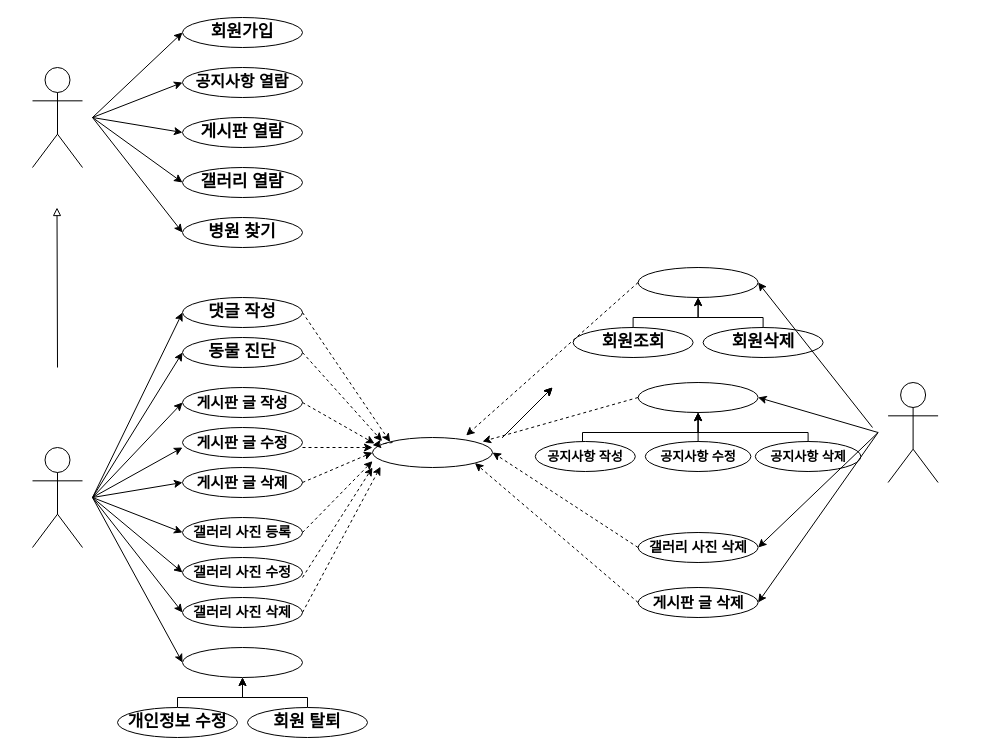
Image size: 1000x755. Some labels were removed from this diagram. The box of each missing label's shape, as (x1, y1, x2, y2) in pixels:
Administrator: (887, 382, 938, 482)
Member: (32, 446, 82, 548)
User: (32, 66, 82, 168)
개인정보 관리: (182, 646, 302, 678)
공지사항 관리: (637, 382, 758, 412)
사용자 인증: (372, 436, 492, 468)
회원관리: (637, 266, 758, 298)
